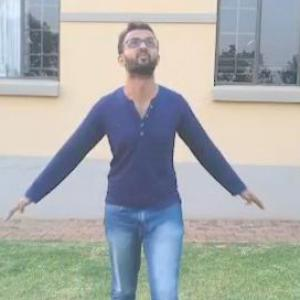land: (1, 15, 265, 299)
